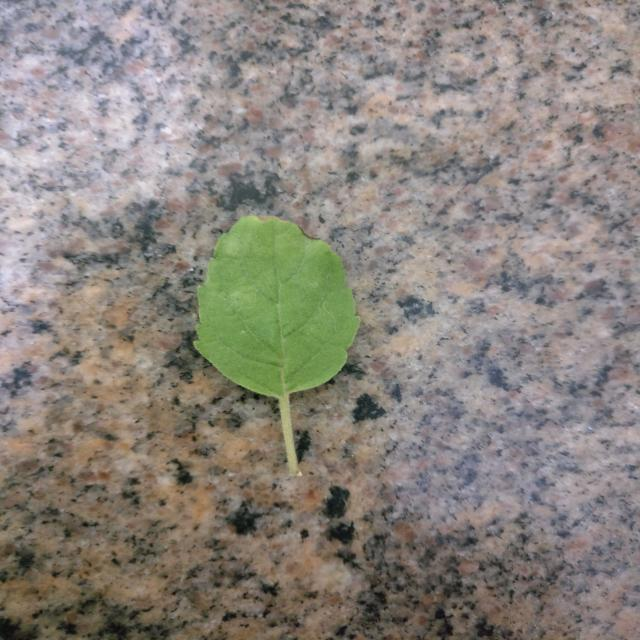tulsi: (195, 216, 360, 399)
